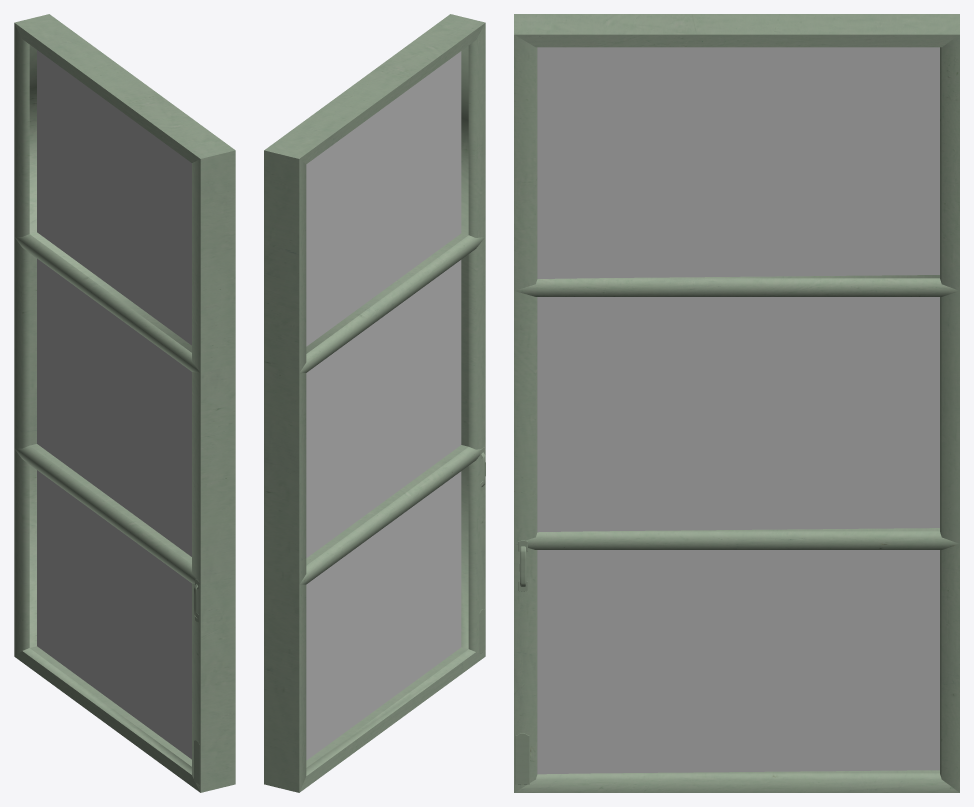
Rendered from SM_WW7_Door_2.fbx.
The picture shows the model from 3 angles, left to right: view 1: azimuth 30°, elevation 25°; view 2: azimuth 150°, elevation 25°; view 3: azimuth 270°, elevation 25°; orthographic projection. The views are drawn at different scales.
Parts seen in each view (by area): view 1: SM_WW7_Door_2; view 2: SM_WW7_Door_2; view 3: SM_WW7_Door_2.
Part boxes in pixels (<box>): SM_WW7_Door_2: <box>14,14,235,792</box>; SM_WW7_Door_2: <box>264,14,485,792</box>; SM_WW7_Door_2: <box>514,14,959,792</box>.
Size of the model in its own units: 8.89 by 71.68 by 135.
2 materials, 1 textured.
